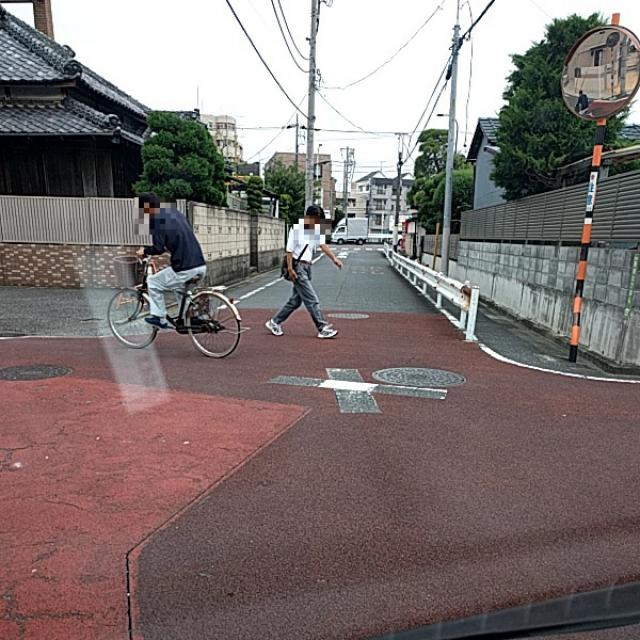pothole: (111, 454, 165, 592)
